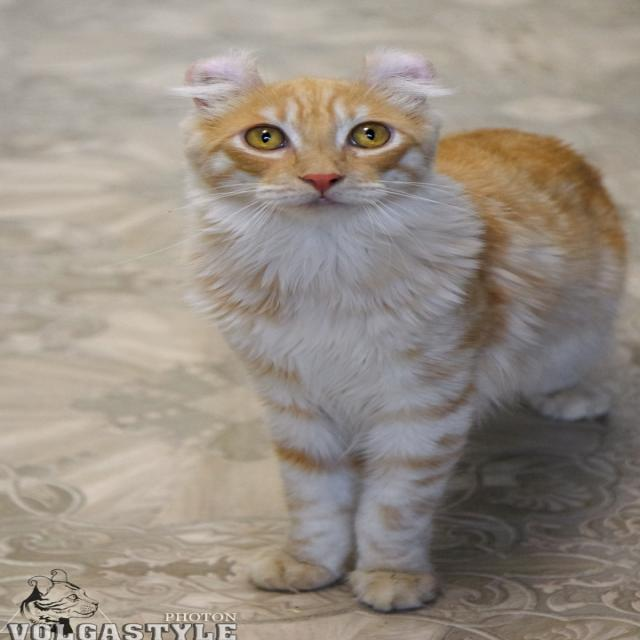American Curl: (166, 42, 634, 617)
